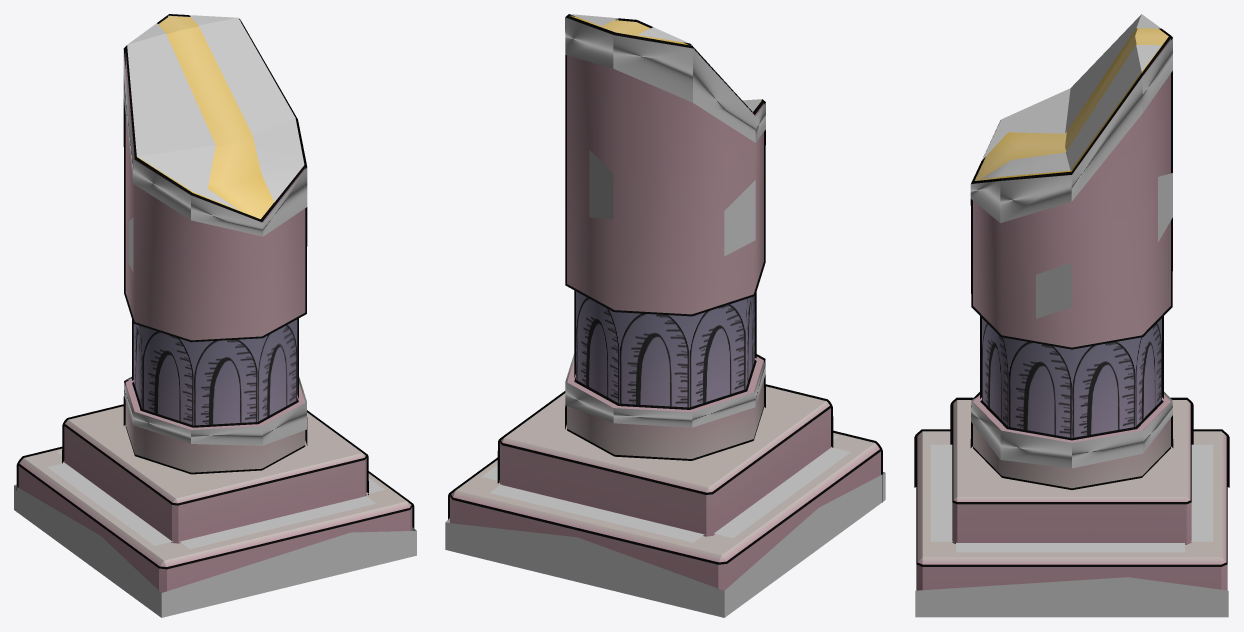
File: Rooms_Paradise_SmallColumn01Broken_Art.fbx
3 views of the same model, side by side, from view 1: azimuth 30°, elevation 25°; view 2: azimuth 150°, elevation 25°; view 3: azimuth 270°, elevation 25° (orthographic). The views are drawn at different scales.
Parts seen in each view (by area): view 1: Rooms_Paradise_SmallColumn01Broken_Art, Rooms_Paradise_SmallColumn01Broken_Shadows, Rooms_Paradise_SmallColumn01Broken_outliner; view 2: Rooms_Paradise_SmallColumn01Broken_Art, Rooms_Paradise_SmallColumn01Broken_Shadows, Rooms_Paradise_SmallColumn01Broken_outliner; view 3: Rooms_Paradise_SmallColumn01Broken_Art, Rooms_Paradise_SmallColumn01Broken_Shadows, Rooms_Paradise_SmallColumn01Broken_outliner.
Part boxes in pixels (x1=…): Rooms_Paradise_SmallColumn01Broken_Art: x1=18, y1=16, x2=412, y2=592; Rooms_Paradise_SmallColumn01Broken_Shadows: x1=14, y1=15, x2=416, y2=617; Rooms_Paradise_SmallColumn01Broken_outliner: x1=16, y1=14, x2=414, y2=527; Rooms_Paradise_SmallColumn01Broken_Art: x1=450, y1=16, x2=880, y2=590; Rooms_Paradise_SmallColumn01Broken_Shadows: x1=445, y1=14, x2=885, y2=617; Rooms_Paradise_SmallColumn01Broken_outliner: x1=448, y1=14, x2=882, y2=519; Rooms_Paradise_SmallColumn01Broken_Art: x1=916, y1=28, x2=1227, y2=590; Rooms_Paradise_SmallColumn01Broken_Shadows: x1=915, y1=14, x2=1228, y2=617; Rooms_Paradise_SmallColumn01Broken_outliner: x1=914, y1=28, x2=1229, y2=487.
Size of the model in its own units: 101 by 183 by 101.
